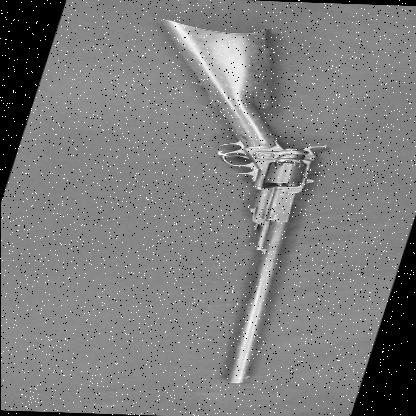rifle: (38, 20, 390, 388)
